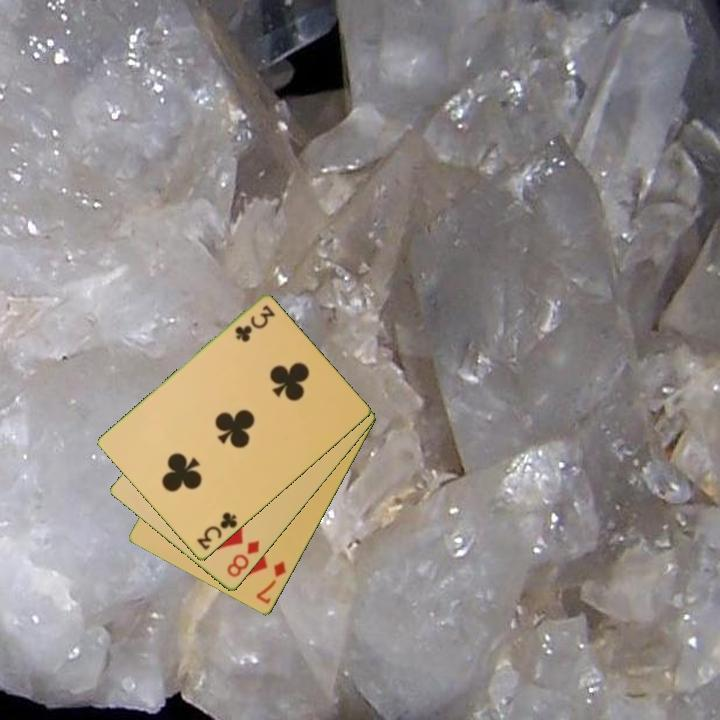3c: (193, 509, 241, 553), (231, 302, 277, 345)
7d: (253, 558, 289, 607)
8d: (223, 537, 263, 581)
